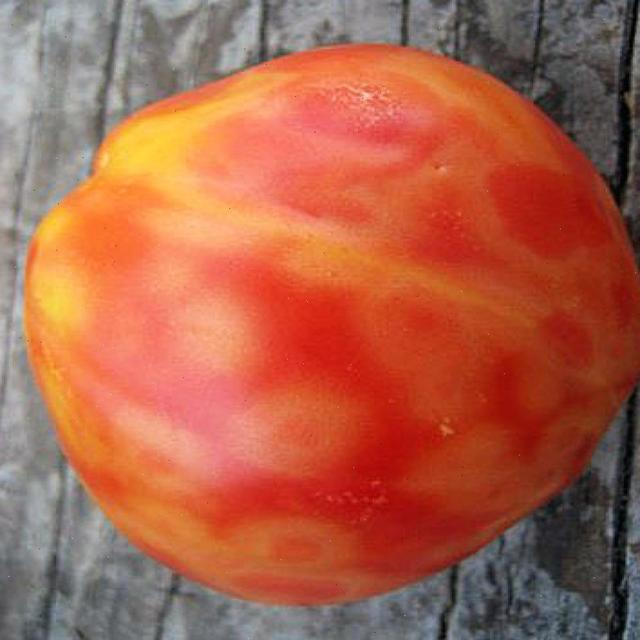Spotted wilt Virus Fruit: (16, 30, 426, 408)
